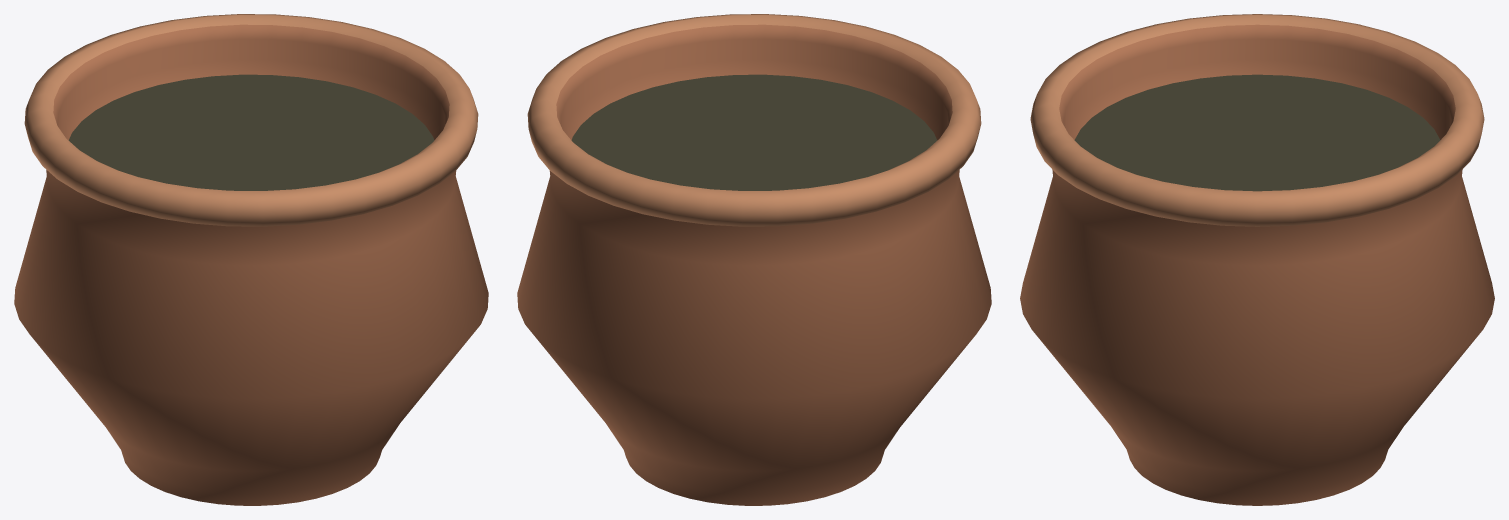
Rendered from clay_pot_2.glb.
3 views of the same model, side by side, from view 1: azimuth 30°, elevation 25°; view 2: azimuth 150°, elevation 25°; view 3: azimuth 270°, elevation 25° (orthographic).
Parts seen in each view (by area): view 1: clay_pot_2; view 2: clay_pot_2; view 3: clay_pot_2.
Part boxes in pixels (left/top/right/bottom): clay_pot_2: left=14, top=14, right=488, bottom=505; clay_pot_2: left=517, top=14, right=991, bottom=505; clay_pot_2: left=1020, top=14, right=1494, bottom=505.
Bounding box in the file's own units: 1.14 × 0.922 × 1.14.
